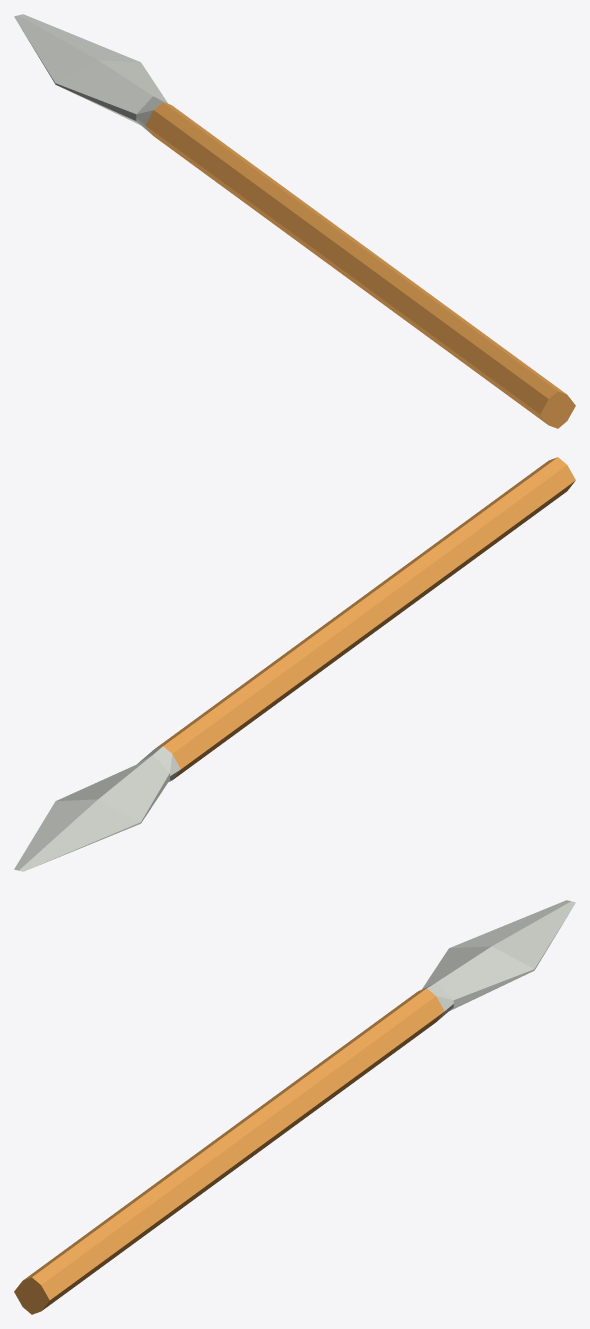
Rendered from steel_lancehead.glb.
3 views of the same model, one above another, from view 1: azimuth 30°, elevation 25°; view 2: azimuth 150°, elevation 25°; view 3: azimuth 330°, elevation 25° (orthographic).
Parts seen in each view (by area): view 1: Cube; view 2: Cube; view 3: Cube.
Boxes of the visible parts, bbox=[...] form: Cube: bbox=[14, 14, 575, 428]; Cube: bbox=[14, 457, 575, 871]; Cube: bbox=[14, 900, 575, 1314].
Bounding box in the file's own units: 1.28 × 0.5376 × 14.02.
